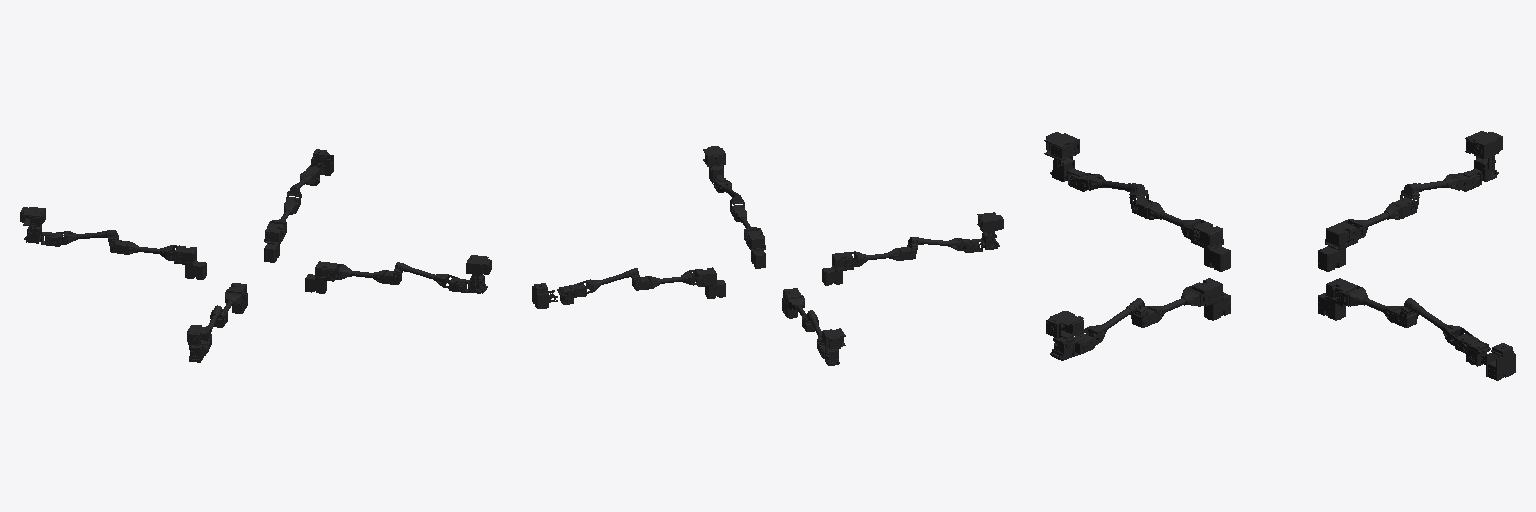
--- Render facts (derived) ---
Views: 3 orthographic renders of the robot side by side, from view 1: azimuth 30°, elevation 25°; view 2: azimuth 150°, elevation 25°; view 3: azimuth 270°, elevation 25°.
Model LIMBERO with 37 links and 36 joints (24 revolute, 4 continuous, 8 fixed), rooted at base_link, posed all joints at 0.
Visible links, largest first — view 1: RF_femur, LH_femur, LH_tibia, RF_tibia; view 2: LF_femur, RH_femur, RH_tibia, LF_tibia; view 3: RF_femur, LF_femur, LF_driving_Link, LH_femur, LF_tibia, RH_femur, LH_driving_Link, RF_tibia, LH_tibia, RF_driving_Link, RH_tibia, RH_driving_Link (+4 smaller).
Boxes of the visible links, bbox=[...] form: RF_femur: bbox=[328, 264, 401, 284]; LH_femur: bbox=[110, 240, 178, 261]; LH_tibia: bbox=[47, 230, 118, 249]; RF_tibia: bbox=[392, 262, 461, 291]; LF_femur: bbox=[632, 270, 703, 290]; RH_femur: bbox=[849, 247, 915, 267]; RH_tibia: bbox=[907, 237, 977, 256]; LF_tibia: bbox=[574, 268, 641, 296]; RF_femur: bbox=[1132, 286, 1211, 327]; LF_femur: bbox=[1337, 285, 1416, 327]; LF_driving_Link: bbox=[1481, 343, 1515, 380]; LH_femur: bbox=[1344, 197, 1416, 240]; LF_tibia: bbox=[1399, 298, 1475, 351]; RH_femur: bbox=[1132, 197, 1204, 240]; LH_driving_Link: bbox=[1465, 131, 1502, 168]; RF_tibia: bbox=[1075, 298, 1149, 351]; LH_tibia: bbox=[1400, 173, 1477, 209]; RF_driving_Link: bbox=[1046, 311, 1083, 346]; RH_tibia: bbox=[1071, 173, 1148, 209]; RH_driving_Link: bbox=[1044, 132, 1079, 168].
Bounding box of the posed robot: 1.08 × 1.07 × 0.16 m (x, y, z).
32 mesh visuals loaded from 14 distinct referenced files (8 binary STL); not drawn: 5 (reference not matched to a file when rendering).

The robot description file, URDF, robot "LIMBERO":
<?xml version="1.0" ?>
<!-- =================================================================================== -->
<!-- |    This document was autogenerated by xacro from LIMBERO_UPDATE.xacro           | -->
<!-- |    EDITING THIS FILE BY HAND IS NOT RECOMMENDED                                 | -->
<!-- =================================================================================== -->
<robot name="LIMBERO">
  <gazebo>
    <!-- ros_control plugin -->
    <plugin filename="libgazebo_ros2_control.so" name="gazebo_ros2_control">
      <parameters>[local-path]/lbr_ws/install/lbr_description/share/lbr_description/config/lbr_controller_with_grieel.yaml</parameters>
    </plugin>
  </gazebo>
  <link name="base_link">
    <inertial>
      <origin rpy="0 0 0" xyz="0 0 -0.0030083"/>
      <mass value="3.1152"/>
      <inertia ixx="0.0036482" ixy="7.8081E-07" ixz="1.7521E-06" iyy="0.0062179" iyz="-1.4424E-06" izz="0.0034682"/>
    </inertial>
    <visual>
      <origin rpy="0 0 0" xyz="0 0 0"/>
      <geometry>
        <mesh filename="meshes/base.STL" scale="1.0 1.0 1.0"/>
      </geometry>
      <material name="">
        <color rgba="0.2 0.2 0.2 1"/>
      </material>
    </visual>
    <collision>
      <origin rpy="0 0 0" xyz="0 0 0"/>
      <geometry>
        <mesh filename="meshes/base.STL" scale="1.0 1.0 1.0"/>
      </geometry>
    </collision>
  </link>
  <gazebo reference="base_link">
    <material>Gazebo/Black</material>
    <visual>
      <material>
        <ambient>0.2 0.2 0.2 1</ambient>
        <diffuse>0.2 0.2 0.2 1</diffuse>
        <specular>0.01 0.01 0.01 1</specular>
        <emissive>0.01 0.01 0.01 1</emissive>
      </material>
    </visual>
  </gazebo>
  <joint name="LF_joint" type="fixed">
    <origin rpy="0 0 0.7853981633974483" xyz="0.14142135623730953 0.1414213562373095 0"/>
    <parent link="base_link"/>
    <child link="LF_limb_root"/>
  </joint>
  <link name="LF_limb_root">
    <inertial>
      <origin rpy="0 0 0" xyz="-0.015029 -7.7571E-11 -0.047318"/>
      <mass value="0.08459"/>
      <inertia ixx="2.1548E-05" ixy="-4.775E-14" ixz="-1.6188E-07" iyy="3.834E-05" iyz="-8.2973E-14" izz="3.1728E-05"/>
    </inertial>
    <visual>
      <origin rpy="0 0 0" xyz="0 0 0"/>
      <geometry>
        <mesh filename="meshes/limb_root.STL"/>
      </geometry>
      <material name="">
        <color rgba="0.2 0.2 0.2 1"/>
      </material>
    </visual>
    <collision>
      <origin rpy="0 0 0" xyz="0 0 0"/>
      <geometry>
        <mesh filename="meshes/limb_root.STL"/>
      </geometry>
    </collision>
  </link>
  <link name="LF_coxa">
    <inertial>
      <origin rpy="0 0 0" xyz="0.015938 0.00063302 -0.0015013"/>
      <mass value="0.09109"/>
      <inertia ixx="2.352E-05" ixy="-1.6188E-07" ixz="4.775E-14" iyy="3.3634E-05" iyz="8.2973E-14" izz="4.2122E-05"/>
    </inertial>
    <visual>
      <origin rpy="0 0 0" xyz="0 0 0"/>
      <geometry>
        <mesh filename="meshes/coxa.STL"/>
      </geometry>
      <material name="">
        <color rgba="0.2 0.2 0.2 1"/>
      </material>
    </visual>
    <collision>
      <origin rpy="0 0 0" xyz="0 0 0"/>
      <geometry>
        <mesh filename="meshes/coxa.STL"/>
      </geometry>
    </collision>
  </link>
  <joint name="LF_B2C" type="revolute">
    <origin rpy="0 0 0" xyz="0 0 0"/>
    <parent link="LF_limb_root"/>
    <child link="LF_coxa"/>
    <axis xyz="0 0 1"/>
    <limit effort="5" lower="-3.14" upper="3.14" velocity="5"/>
    <dynamics damping="0.1" friction="0.4"/>
  </joint>
  <link name="LF_femur">
    <inertial>
      <origin rpy="0 0 0" xyz="0.10083 0.00014739 -3.217E-08"/>
      <mass value="0.12821"/>
      <inertia ixx="3.7005E-05" ixy="-1.9987E-08" ixz="-3.8346E-12" iyy="2.9934E-05" iyz="2.5988E-11" izz="4.8164E-05"/>
    </inertial>
    <visual>
      <origin rpy="0 0 0" xyz="0 0 0"/>
      <geometry>
        <mesh filename="meshes/femur.STL"/>
      </geometry>
      <material name="">
        <color rgba="0.2 0.2 0.2 1"/>
      </material>
    </visual>
    <collision>
      <origin rpy="0 0 0" xyz="0 0 0"/>
      <geometry>
        <mesh filename="meshes/femur.STL"/>
      </geometry>
    </collision>
  </link>
  <joint name="LF_C2F" type="revolute">
    <origin rpy="0 0 0" xyz="0.031 0 0"/>
    <parent link="LF_coxa"/>
    <child link="LF_femur"/>
    <axis xyz="0 1 0"/>
    <limit effort="5" lower="-3.14" upper="3.14" velocity="5"/>
    <dynamics damping="0.1" friction="0.4"/>
  </joint>
  <link name="LF_tibia">
    <inertial>
      <origin rpy="0 0 0" xyz="0.10298 1.1638E-07 0.019231"/>
      <mass value="0.061841"/>
      <inertia ixx="1.5486E-05" ixy="4.7072E-09" ixz="2.5637E-06" iyy="2.1826E-05" iyz="2.414E-08" izz="2.8843E-05"/>
    </inertial>
    <visual>
      <origin rpy="0 0 0" xyz="0 0 0"/>
      <geometry>
        <mesh filename="meshes/tibia.STL"/>
      </geometry>
      <material name="">
        <color rgba="0.2 0.2 0.2 1"/>
      </material>
    </visual>
    <collision>
      <origin rpy="0 0 0" xyz="0 0 0"/>
      <geometry>
        <mesh filename="meshes/tibia.STL"/>
      </geometry>
    </collision>
  </link>
  <joint name="LF_F2T" type="revolute">
    <origin rpy="0 0 0" xyz="0.2 0 0"/>
    <parent link="LF_femur"/>
    <child link="LF_tibia"/>
    <axis xyz="0 1 0"/>
    <limit effort="5" lower="-3.14" upper="3.14" velocity="5"/>
    <dynamics damping="0.1" friction="0.4"/>
  </joint>
  <link name="LF_limb_end">
    <inertial>
      <origin rpy="0 0 0" xyz="-0.011645 0.00042918 -9.53E-12"/>
      <mass value="0.081999"/>
      <inertia ixx="1.3061E-05" ixy="-3.7211E-08" ixz="3.1094E-14" iyy="1.9634E-05" iyz="-3.9438E-17" izz="2.2308E-05"/>
    </inertial>
    <visual>
      <origin rpy="0 0 0" xyz="0 0 0"/>
      <geometry>
        <mesh filename="meshes/limb_end.STL"/>
      </geometry>
      <material name="">
        <color rgba="0.2 0.2 0.2 1"/>
      </material>
    </visual>
    <collision>
      <origin rpy="0 0 0" xyz="0 0 0"/>
      <geometry>
        <mesh filename="meshes/limb_end.STL"/>
      </geometry>
    </collision>
  </link>
  <joint name="LF_T2E" type="revolute">
    <origin rpy="0 0 0" xyz="0.2 0 0"/>
    <parent link="LF_tibia"/>
    <child link="LF_limb_end"/>
    <axis xyz="0 1 0"/>
    <limit effort="5" lower="-3.14" upper="3.14" velocity="5"/>
    <dynamics damping="0.1" friction="0.4"/>
  </joint>
  <joint name="LH_joint" type="fixed">
    <origin rpy="0 0 2.356194490192345" xyz="-0.1414213562373095 0.14142135623730953 0"/>
    <parent link="base_link"/>
    <child link="LH_limb_root"/>
  </joint>
  <link name="LH_limb_root">
    <inertial>
      <origin rpy="0 0 0" xyz="-0.015029 -7.7571E-11 -0.047318"/>
      <mass value="0.08459"/>
      <inertia ixx="2.1548E-05" ixy="-4.775E-14" ixz="-1.6188E-07" iyy="3.834E-05" iyz="-8.2973E-14" izz="3.1728E-05"/>
    </inertial>
    <visual>
      <origin rpy="0 0 0" xyz="0 0 0"/>
      <geometry>
        <mesh filename="meshes/limb_root.STL"/>
      </geometry>
      <material name="">
        <color rgba="0.2 0.2 0.2 1"/>
      </material>
    </visual>
    <collision>
      <origin rpy="0 0 0" xyz="0 0 0"/>
      <geometry>
        <mesh filename="meshes/limb_root.STL"/>
      </geometry>
    </collision>
  </link>
  <link name="LH_coxa">
    <inertial>
      <origin rpy="0 0 0" xyz="0.015938 0.00063302 -0.0015013"/>
      <mass value="0.09109"/>
      <inertia ixx="2.352E-05" ixy="-1.6188E-07" ixz="4.775E-14" iyy="3.3634E-05" iyz="8.2973E-14" izz="4.2122E-05"/>
    </inertial>
    <visual>
      <origin rpy="0 0 0" xyz="0 0 0"/>
      <geometry>
        <mesh filename="meshes/coxa.STL"/>
      </geometry>
      <material name="">
        <color rgba="0.2 0.2 0.2 1"/>
      </material>
    </visual>
    <collision>
      <origin rpy="0 0 0" xyz="0 0 0"/>
      <geometry>
        <mesh filename="meshes/coxa.STL"/>
      </geometry>
    </collision>
  </link>
  <joint name="LH_B2C" type="revolute">
    <origin rpy="0 0 0" xyz="0 0 0"/>
    <parent link="LH_limb_root"/>
    <child link="LH_coxa"/>
    <axis xyz="0 0 1"/>
    <limit effort="5" lower="-3.14" upper="3.14" velocity="5"/>
    <dynamics damping="0.1" friction="0.4"/>
  </joint>
  <link name="LH_femur">
    <inertial>
      <origin rpy="0 0 0" xyz="0.10083 0.00014739 -3.217E-08"/>
      <mass value="0.12821"/>
      <inertia ixx="3.7005E-05" ixy="-1.9987E-08" ixz="-3.8346E-12" iyy="2.9934E-05" iyz="2.5988E-11" izz="4.8164E-05"/>
    </inertial>
    <visual>
      <origin rpy="0 0 0" xyz="0 0 0"/>
      <geometry>
        <mesh filename="meshes/femur.STL"/>
      </geometry>
      <material name="">
        <color rgba="0.2 0.2 0.2 1"/>
      </material>
    </visual>
    <collision>
      <origin rpy="0 0 0" xyz="0 0 0"/>
      <geometry>
        <mesh filename="meshes/femur.STL"/>
      </geometry>
    </collision>
  </link>
  <joint name="LH_C2F" type="revolute">
    <origin rpy="0 0 0" xyz="0.031 0 0"/>
    <parent link="LH_coxa"/>
    <child link="LH_femur"/>
    <axis xyz="0 1 0"/>
    <limit effort="5" lower="-3.14" upper="3.14" velocity="5"/>
    <dynamics damping="0.1" friction="0.4"/>
  </joint>
  <link name="LH_tibia">
    <inertial>
      <origin rpy="0 0 0" xyz="0.10298 1.1638E-07 0.019231"/>
      <mass value="0.061841"/>
      <inertia ixx="1.5486E-05" ixy="4.7072E-09" ixz="2.5637E-06" iyy="2.1826E-05" iyz="2.414E-08" izz="2.8843E-05"/>
    </inertial>
    <visual>
      <origin rpy="0 0 0" xyz="0 0 0"/>
      <geometry>
        <mesh filename="meshes/tibia.STL"/>
      </geometry>
      <material name="">
        <color rgba="0.2 0.2 0.2 1"/>
      </material>
    </visual>
    <collision>
      <origin rpy="0 0 0" xyz="0 0 0"/>
      <geometry>
        <mesh filename="meshes/tibia.STL"/>
      </geometry>
    </collision>
  </link>
  <joint name="LH_F2T" type="revolute">
    <origin rpy="0 0 0" xyz="0.2 0 0"/>
    <parent link="LH_femur"/>
    <child link="LH_tibia"/>
    <axis xyz="0 1 0"/>
    <limit effort="5" lower="-3.14" upper="3.14" velocity="5"/>
    <dynamics damping="0.1" friction="0.4"/>
  </joint>
  <link name="LH_limb_end">
    <inertial>
      <origin rpy="0 0 0" xyz="-0.011645 0.00042918 -9.53E-12"/>
      <mass value="0.081999"/>
      <inertia ixx="1.3061E-05" ixy="-3.7211E-08" ixz="3.1094E-14" iyy="1.9634E-05" iyz="-3.9438E-17" izz="2.2308E-05"/>
    </inertial>
    <visual>
      <origin rpy="0 0 0" xyz="0 0 0"/>
      <geometry>
        <mesh filename="meshes/limb_end.STL"/>
      </geometry>
      <material name="">
        <color rgba="0.2 0.2 0.2 1"/>
      </material>
    </visual>
    <collision>
      <origin rpy="0 0 0" xyz="0 0 0"/>
      <geometry>
        <mesh filename="meshes/limb_end.STL"/>
      </geometry>
    </collision>
  </link>
  <joint name="LH_T2E" type="revolute">
    <origin rpy="0 0 0" xyz="0.2 0 0"/>
    <parent link="LH_tibia"/>
    <child link="LH_limb_end"/>
    <axis xyz="0 1 0"/>
    <limit effort="5" lower="-3.14" upper="3.14" velocity="5"/>
    <dynamics damping="0.1" friction="0.4"/>
  </joint>
  <joint name="RH_joint" type="fixed">
    <origin rpy="0 0 3.9269908169872414" xyz="-0.14142135623730953 -0.1414213562373095 0"/>
    <parent link="base_link"/>
    <child link="RH_limb_root"/>
  </joint>
  <link name="RH_limb_root">
    <inertial>
      <origin rpy="0 0 0" xyz="-0.015029 -7.7571E-11 -0.047318"/>
      <mass value="0.08459"/>
      <inertia ixx="2.1548E-05" ixy="-4.775E-14" ixz="-1.6188E-07" iyy="3.834E-05" iyz="-8.2973E-14" izz="3.1728E-05"/>
    </inertial>
    <visual>
      <origin rpy="0 0 0" xyz="0 0 0"/>
      <geometry>
        <mesh filename="meshes/limb_root.STL"/>
      </geometry>
      <material name="">
        <color rgba="0.2 0.2 0.2 1"/>
      </material>
    </visual>
    <collision>
      <origin rpy="0 0 0" xyz="0 0 0"/>
      <geometry>
        <mesh filename="meshes/limb_root.STL"/>
      </geometry>
    </collision>
  </link>
  <link name="RH_coxa">
    <inertial>
      <origin rpy="0 0 0" xyz="0.015938 0.00063302 -0.0015013"/>
      <mass value="0.09109"/>
      <inertia ixx="2.352E-05" ixy="-1.6188E-07" ixz="4.775E-14" iyy="3.3634E-05" iyz="8.2973E-14" izz="4.2122E-05"/>
    </inertial>
    <visual>
      <origin rpy="0 0 0" xyz="0 0 0"/>
      <geometry>
        <mesh filename="meshes/coxa.STL"/>
      </geometry>
      <material name="">
        <color rgba="0.2 0.2 0.2 1"/>
      </material>
    </visual>
    <collision>
      <origin rpy="0 0 0" xyz="0 0 0"/>
      <geometry>
        <mesh filename="meshes/coxa.STL"/>
      </geometry>
    </collision>
  </link>
  <joint name="RH_B2C" type="revolute">
    <origin rpy="0 0 0" xyz="0 0 0"/>
    <parent link="RH_limb_root"/>
    <child link="RH_coxa"/>
    <axis xyz="0 0 1"/>
    <limit effort="5" lower="-3.14" upper="3.14" velocity="5"/>
    <dynamics damping="0.1" friction="0.4"/>
  </joint>
  <link name="RH_femur">
    <inertial>
      <origin rpy="0 0 0" xyz="0.10083 0.00014739 -3.217E-08"/>
      <mass value="0.12821"/>
      <inertia ixx="3.7005E-05" ixy="-1.9987E-08" ixz="-3.8346E-12" iyy="2.9934E-05" iyz="2.5988E-11" izz="4.8164E-05"/>
    </inertial>
    <visual>
      <origin rpy="0 0 0" xyz="0 0 0"/>
      <geometry>
        <mesh filename="meshes/femur.STL"/>
      </geometry>
      <material name="">
        <color rgba="0.2 0.2 0.2 1"/>
      </material>
    </visual>
    <collision>
      <origin rpy="0 0 0" xyz="0 0 0"/>
      <geometry>
        <mesh filename="meshes/femur.STL"/>
      </geometry>
    </collision>
  </link>
  <joint name="RH_C2F" type="revolute">
    <origin rpy="0 0 0" xyz="0.031 0 0"/>
    <parent link="RH_coxa"/>
    <child link="RH_femur"/>
    <axis xyz="0 1 0"/>
    <limit effort="5" lower="-3.14" upper="3.14" velocity="5"/>
    <dynamics damping="0.1" friction="0.4"/>
  </joint>
  <link name="RH_tibia">
    <inertial>
      <origin rpy="0 0 0" xyz="0.10298 1.1638E-07 0.019231"/>
      <mass value="0.061841"/>
      <inertia ixx="1.5486E-05" ixy="4.7072E-09" ixz="2.5637E-06" iyy="2.1826E-05" iyz="2.414E-08" izz="2.8843E-05"/>
    </inertial>
    <visual>
      <origin rpy="0 0 0" xyz="0 0 0"/>
      <geometry>
        <mesh filename="meshes/tibia.STL"/>
      </geometry>
      <material name="">
        <color rgba="0.2 0.2 0.2 1"/>
      </material>
    </visual>
    <collision>
      <origin rpy="0 0 0" xyz="0 0 0"/>
      <geometry>
        <mesh filename="meshes/tibia.STL"/>
      </geometry>
    </collision>
  </link>
  <joint name="RH_F2T" type="revolute">
    <origin rpy="0 0 0" xyz="0.2 0 0"/>
    <parent link="RH_femur"/>
    <child link="RH_tibia"/>
    <axis xyz="0 1 0"/>
    <limit effort="5" lower="-3.14" upper="3.14" velocity="5"/>
    <dynamics damping="0.1" friction="0.4"/>
  </joint>
  <link name="RH_limb_end">
    <inertial>
      <origin rpy="0 0 0" xyz="-0.011645 0.00042918 -9.53E-12"/>
      <mass value="0.081999"/>
      <inertia ixx="1.3061E-05" ixy="-3.7211E-08" ixz="3.1094E-14" iyy="1.9634E-05" iyz="-3.9438E-17" izz="2.2308E-05"/>
    </inertial>
    <visual>
      <origin rpy="0 0 0" xyz="0 0 0"/>
      <geometry>
        <mesh filename="meshes/limb_end.STL"/>
      </geometry>
      <material name="">
        <color rgba="0.2 0.2 0.2 1"/>
      </material>
    </visual>
    <collision>
      <origin rpy="0 0 0" xyz="0 0 0"/>
      <geometry>
        <mesh filename="meshes/limb_end.STL"/>
      </geometry>
    </collision>
  </link>
  <joint name="RH_T2E" type="revolute">
    <origin rpy="0 0 0" xyz="0.2 0 0"/>
    <parent link="RH_tibia"/>
    <child link="RH_limb_end"/>
    <axis xyz="0 1 0"/>
    <limit effort="5" lower="-3.14" upper="3.14" velocity="5"/>
    <dynamics damping="0.1" friction="0.4"/>
  </joint>
  <joint name="RF_joint" type="fixed">
    <origin rpy="0 0 5.497787143782138" xyz="0.14142135623730948 -0.14142135623730953 0"/>
    <parent link="base_link"/>
    <child link="RF_limb_root"/>
  </joint>
  <link name="RF_limb_root">
    <inertial>
      <origin rpy="0 0 0" xyz="-0.015029 -7.7571E-11 -0.047318"/>
      <mass value="0.08459"/>
      <inertia ixx="2.1548E-05" ixy="-4.775E-14" ixz="-1.6188E-07" iyy="3.834E-05" iyz="-8.2973E-14" izz="3.1728E-05"/>
    </inertial>
    <visual>
      <origin rpy="0 0 0" xyz="0 0 0"/>
      <geometry>
        <mesh filename="meshes/limb_root.STL"/>
      </geometry>
      <material name="">
        <color rgba="0.2 0.2 0.2 1"/>
      </material>
    </visual>
    <collision>
      <origin rpy="0 0 0" xyz="0 0 0"/>
      <geometry>
        <mesh filename="meshes/limb_root.STL"/>
      </geometry>
    </collision>
  </link>
  <link name="RF_coxa">
    <inertial>
      <origin rpy="0 0 0" xyz="0.015938 0.00063302 -0.0015013"/>
      <mass value="0.09109"/>
      <inertia ixx="2.352E-05" ixy="-1.6188E-07" ixz="4.775E-14" iyy="3.3634E-05" iyz="8.2973E-14" izz="4.2122E-05"/>
    </inertial>
    <visual>
      <origin rpy="0 0 0" xyz="0 0 0"/>
      <geometry>
        <mesh filename="meshes/coxa.STL"/>
      </geometry>
      <material name="">
        <color rgba="0.2 0.2 0.2 1"/>
      </material>
    </visual>
    <collision>
      <origin rpy="0 0 0" xyz="0 0 0"/>
      <geometry>
        <mesh filename="meshes/coxa.STL"/>
      </geometry>
    </collision>
  </link>
  <joint name="RF_B2C" type="revolute">
    <origin rpy="0 0 0" xyz="0 0 0"/>
    <parent link="RF_limb_root"/>
    <child link="RF_coxa"/>
    <axis xyz="0 0 1"/>
    <limit effort="5" lower="-3.14" upper="3.14" velocity="5"/>
    <dynamics damping="0.1" friction="0.4"/>
  </joint>
  <link name="RF_femur">
    <inertial>
      <origin rpy="0 0 0" xyz="0.10083 0.00014739 -3.217E-08"/>
      <mass value="0.12821"/>
      <inertia ixx="3.7005E-05" ixy="-1.9987E-08" ixz="-3.8346E-12" iyy="2.9934E-05" iyz="2.5988E-11" izz="4.8164E-05"/>
    </inertial>
    <visual>
      <origin rpy="0 0 0" xyz="0 0 0"/>
      <geometry>
        <mesh filename="meshes/femur.STL"/>
      </geometry>
      <material name="">
        <color rgba="0.2 0.2 0.2 1"/>
      </material>
    </visual>
    <collision>
      <origin rpy="0 0 0" xyz="0 0 0"/>
      <geometry>
        <mesh filename="meshes/femur.STL"/>
      </geometry>
    </collision>
  </link>
  <joint name="RF_C2F" type="revolute">
    <origin rpy="0 0 0" xyz="0.031 0 0"/>
    <parent link="RF_coxa"/>
    <child link="RF_femur"/>
    <axis xyz="0 1 0"/>
    <limit effort="5" lower="-3.14" upper="3.14" velocity="5"/>
    <dynamics damping="0.1" friction="0.4"/>
  </joint>
  <link name="RF_tibia">
    <inertial>
      <origin rpy="0 0 0" xyz="0.10298 1.1638E-07 0.019231"/>
      <mass value="0.061841"/>
      <inertia ixx="1.5486E-05" ixy="4.7072E-09" ixz="2.5637E-06" iyy="2.1826E-05" iyz="2.414E-08" izz="2.8843E-05"/>
    </inertial>
    <visual>
      <origin rpy="0 0 0" xyz="0 0 0"/>
      <geometry>
        <mesh filename="meshes/tibia.STL"/>
      </geometry>
      <material name="">
        <color rgba="0.2 0.2 0.2 1"/>
      </material>
    </visual>
    <collision>
      <origin rpy="0 0 0" xyz="0 0 0"/>
      <geometry>
        <mesh filename="meshes/tibia.STL"/>
      </geometry>
    </collision>
  </link>
  <joint name="RF_F2T" type="revolute">
    <origin rpy="0 0 0" xyz="0.2 0 0"/>
    <parent link="RF_femur"/>
    <child link="RF_tibia"/>
    <axis xyz="0 1 0"/>
    <limit effort="5" lower="-3.14" upper="3.14" velocity="5"/>
    <dynamics damping="0.1" friction="0.4"/>
  </joint>
  <link name="RF_limb_end">
    <inertial>
      <origin rpy="0 0 0" xyz="-0.011645 0.00042918 -9.53E-12"/>
      <mass value="0.081999"/>
      <inertia ixx="1.3061E-05" ixy="-3.7211E-08" ixz="3.1094E-14" iyy="1.9634E-05" iyz="-3.9438E-17" izz="2.2308E-05"/>
    </inertial>
    <visual>
      <origin rpy="0 0 0" xyz="0 0 0"/>
      <geometry>
        <mesh filename="meshes/limb_end.STL"/>
      </geometry>
      <material name="">
        <color rgba="0.2 0.2 0.2 1"/>
      </material>
    </visual>
    <collision>
      <origin rpy="0 0 0" xyz="0 0 0"/>
      <geometry>
        <mesh filename="meshes/limb_end.STL"/>
      </geometry>
    </collision>
  </link>
  <joint name="RF_T2E" type="revolute">
    <origin rpy="0 0 0" xyz="0.2 0 0"/>
    <parent link="RF_tibia"/>
    <child link="RF_limb_end"/>
    <axis xyz="0 1 0"/>
    <limit effort="5" lower="-3.14" upper="3.14" velocity="5"/>
    <dynamics damping="0.1" friction="0.4"/>
  </joint>
  <joint name="LF_E2grieel" type="fixed">
    <origin rpy="0 0 0" xyz="0 0 0"/>
    <parent link="LF_limb_end"/>
    <child link="LF_wristH_Link"/>
    <!-- <axis
        xyz="0 1 0" />
      <limit
        lower="0"
        upper="0"
        effort="5"
        velocity="0" /> -->
  </joint>
  <link name="LF_wristH_Link">
    <inertial>
      <origin rpy="0 0 0" xyz="-0.00522566844956051 -1.34546419111017E-16 -2.50808033407652E-17"/>
      <mass value="0.00988435774287047"/>
      <inertia ixx="2.66612744764484E-06" ixy="-1.34713298418369E-20" ixz="3.60089715947716E-21" iyy="4.57142030143529E-06" iyz="4.76175575235816E-19" izz="2.9211242466353E-06"/>
    </inertial>
    <visual>
      <origin rpy="0 0 0" xyz="0 0 0"/>
      <geometry>
        <mesh filename="meshes/Grieel_wheel_mode/wristH_Link.STL"/>
      </geometry>
      <material name="">
        <color rgba="0.2 0.2 0.2 1"/>
      </material>
    </visual>
    <collision>
      <origin rpy="0 0 0" xyz="0 0 0"/>
      <geometry>
        <mesh filename="meshes/Grieel_wheel_mode/wristH_Link.STL"/>
      </geometry>
    </collision>
  </link>
  <link name="LF_wristV_Link">
    <inertial>
      <origin rpy="0 0 0" xyz="0.0195120824576142 -0.000473380302575917 -0.0113217579335182"/>
      <mass value="0.102059813857681"/>
      <inertia ixx="2.51506057023328E-05" ixy="5.87568310882065E-07" ixz="5.02138918676071E-10" iyy="2.47069145197251E-05" iyz="-1.31422853272996E-09" izz="1.79824315026287E-05"/>
    </inertial>
    <visual>
      <origin rpy="-3.14159265358 0 0" xyz="-0.014255 0 0"/>
      <geometry>
        <mesh filename="meshes/Grieel_wheel_mode/wristV_Link.STL"/>
      </geometry>
      <material name="">
        <color rgba="0.2 0.2 0.2 1"/>
      </material>
    </visual>
    <collision>
      <origin rpy="0 0 0" xyz="-0.014255 0 0"/>
      <geometry>
        <mesh filename="meshes/Grieel_wheel_mode/wristV_Link.STL"/>
      </geometry>
    </collision>
  </link>
  <joint name="LF_wristH" type="revolute">
    <origin rpy="0 0 0" xyz="0.014255 0 0"/>
    <parent link="LF_wristH_Link"/>
    <child link="LF_wristV_Link"/>
    <axis xyz="1 0 0"/>
    <limit effort="5" lower="-3.14159265358" upper="3.14159265358" velocity="5"/>
    <dynamics damping="0.1" friction="0.4"/>
  </joint>
  <link name="LF_driving_Link">
    <inertial>
      <origin rpy="0 0 0" xyz="0.0448909989381638 -0.00431415254067207 5.44808063318511E-05"/>
      <mass value="0.132659951309175"/>
      <inertia ixx="4.32511275712107E-05" ixy="-4.1427317823442E-09" ixz="7.08867361092382E-09" iyy="3.4691959624158E-05" iyz="-1.0616454627913E-08" izz="3.76031003493131E-05"/>
    </inertial>
    <visual>
      <origin rpy="3.14159265358 -1.5708 0" xyz="0.024002 0 -0.03325 "/>
      <geometry>
        <mesh filename="meshes/Grieel_wheel_mode/driving_Link.STL"/>
      </geometry>
      <material name="">
        <color rgba="0.2 0.2 0.2 1"/>
      </material>
    </visual>
    <collision>
      <origin rpy="0 0 0" xyz="-0.03325 0 0.024002"/>
      <geometry>
        <mesh filename="meshes/Grieel_wheel_mode/driving_Link.STL"/>
      </geometry>
    </collision>
  </link>
  <joint name="LF_wristV" type="revolute">
    <origin rpy="0 0 0" xyz="0.018995 0 0.024002"/>
    <parent link="LF_wristV_Link"/>
    <child link="LF_driving_Link"/>
    <axis xyz="0 1 0"/>
    <limit effort="5" lower="-2.35619449019" upper="1.5708" velocity="5"/>
    <dynamics damping="0.1" friction="0.4"/>
  </joint>
  <link name="LF_wheel_Link">
    <inertial>
      <origin rpy="0 0 0" xyz="0.00222516909085785 0.00371161518941796 0.0864468548098098"/>
      <mass value="0.415840945785028"/>
      <inertia ixx="8.46005758272478E-05" ixy="5.92848495177423E-08" ixz="-1.25700028998783E-06" iyy="6.34434076414387E-05" iyz="-5.56154912625676E-07" izz="9.63386112584046E-05"/>
    </inertial>
    <visual>
      <origin rpy="0 -1.5708 3.14159265358" xyz=" 0.010898 0 -0.079017"/>
      <geometry>
        <mesh filename="meshes/Grieel_wheel_mode/wheel_Link.STL"/>
      </geometry>
      <material name="">
        <color rgba="0.2 0.2 0.2 1"/>
      </material>
    </visual>
    <collision name="LF_wheel_Link_collision">
      <origin rpy="0 0 0" xyz="-0.079017 0 0.010898"/>
      <geometry>
        <mesh filename="meshes/Grieel_wheel_mode/wheel_Link.STL"/>
      </geometry>
    </collision>
    <!-- <collision name="${prefix}_wheel_Link_collision">
      <origin
        xyz="0 -0.118 0"
        rpy="${pi/2} 0 0" />
      <geometry>
        <cylinder length="0.04" radius="0.078"/>
      </geometry>
    </collision> -->
  </link>
  <joint name="LF_driving" type="continuous">
    <origin rpy="0 0 0" xyz="0.013104 0 0.045762"/>
    <parent link="LF_driving_Link"/>
    <child link="LF_wheel_Link"/>
    <axis xyz="-1 0 0"/>
    <dynamics damping="0.1" friction="0.4"/>
  </joint>
  <!-- Gazebo plugin for contact sensor, collision name like that because of parsing errors in the urdf  -->
  <gazebo reference="LF_wheel_Link">
    <sensor name="LF_gripper_bumper_sensor" type="contact">
      <always_on>true</always_on>
      <update_rate>100</update_rate>
      <contact>
        <collision>LF_wheel_Link_collision_collision</collision>
      </contact>
      <plugin filename="libgazebo_ros_bumper.so" name="LF_gripper_bumper">
        <ros>
          <namespace>LF</namespace>
        </ros>
        <frame_name>LF_wheel_link</frame_name>
      </plugin>
    </sensor>
  </gazebo>
  <joint name="LH_E2grieel" type="fixed">
    <origin rpy="-1.5708 0 0" xyz="0 0 0"/>
    <parent link="LH_limb_end"/>
    <child link="LH_wristH_Link"/>
    <!-- <axis
        xyz="0 1 0" />
      <limit
        lower="0"
        upper="0"
        effort="0"
        velocity="0" /> -->
  </joint>
  <link name="LH_wristH_Link">
    <inertial>
      <origin rpy="0 0 0" xyz="0.011821 8.7424E-07 4.3619E-14"/>
      <mass value="0.00824"/>
      <inertia ixx="1.7943E-06" ixy="-3.8552E-19" ixz="7.4101E-19" iyy="2.9379E-06" iyz="-2.3646E-09" izz="1.6633E-06"/>
    </inertial>
    <visual>
      <origin rpy="0 0 0" xyz="0 0 0"/>
      <geometry>
        <mesh filename="meshes/Grieel_gripper_mode/wristH_Link.STL"/>
      </geometry>
      <material name="">
        <color rgba="0.2 0.2 0.2 1"/>
      </material>
    </visual>
    <collision>
      <origin rpy="0 0 0" xyz="0 0 0"/>
      <geometry>
        <mesh filename="meshes/Grieel_gripper_mode/wristH_Link.STL"/>
      </geometry>
    </collision>
  </link>
  <link name="LH_wristV_Link">
    <inertial>
      <origin rpy="0 0 0" xyz="0.0214166502499745 0.000471129500725836 0.0113219457469963"/>
      <mass value="0.102059813857681"/>
      <inertia ixx="2.51506057023328E-05" ixy="-5.87568310882068E-07" ixz="-5.02138918625881E-10" iyy="2.47069145197251E-05" iyz="-1.3142285327366E-09" izz="1.79824315026287E-05"/>
    </inertial>
    <visual>
      <origin rpy="0 0 0" xyz="0 0 0"/>
      <geometry>
        <mesh filename="meshes/Grieel_gripper_mode/wristV_Link.STL"/>
      </geometry>
      <material name="">
        <color rgba="0.2 0.2 0.2 1"/>
      </material>
    </visual>
    <collision>
      <origin rpy="0 0 0" xyz="0 0 0"/>
      <geometry>
        <mesh filename="meshes/Grieel_gripper_mode/wristV_Link.STL"/>
      </geometry>
    </collision>
  </link>
  <joint name="LH_wristH" type="revolute">
    <origin rpy="1.5708 0 0" xyz="0.025851 0 0"/>
    <parent link="LH_wristH_Link"/>
    <child link="LH_wristV_Link"/>
    <axis xyz="1 0 0"/>
    <limit effort="5" lower="-3.14159265358" upper="3.14159265358" velocity="5"/>
    <dynamics damping="0.1" friction="0.4"/>
  </joint>
  <link name="LH_driving_Link">
    <inertial>
      <origin rpy="0 0 0" xyz="5.44808065291863E-05 0.00431293338596027 0.0448909989385787"/>
      <mass value="0.132659951311712"/>
      <inertia ixx="3.76031003493078E-05" ixy="1.06164546307058E-08" ixz="7.08867360655478E-09" iyy="3.46919596241853E-05" iyz="4.14273177876885E-09" izz="4.32511275712205E-05"/>
    </inertial>
    <visual>
      <origin rpy="0 0 0" xyz="0 0 0"/>
      <geometry>
        <mesh filename="meshes/Grieel_gripper_mode/driving_Link.STL"/>
      </geometry>
      <material name="">
        <color rgba="0.2 0.2 0.2 1"/>
      </material>
    </visual>
    <collision>
      <origin rpy="0 0 0" xyz="0 0 0"/>
      <geometry>
        <mesh filename="meshes/Grieel_gripper_mode/driving_Link.STL"/>
      </geometry>
    </collision>
  </link>
  <joint name="LH_wristV" type="revolute">
    <origin rpy="0 0 0" xyz="0.0209 0 0.024008"/>
    <parent link="LH_wristV_Link"/>
    <child link="LH_driving_Link"/>
    <axis xyz="0 1 0"/>
    <limit effort="5" lower="-0.78539816339" upper="1.57079632679" velocity="5"/>
    <dynamics damping="0.1" friction="0.4"/>
  </joint>
  <link name="LH_gripper_Link">
    <inertial>
      <origin rpy="0 0 0" xyz="0.0710296935233056 0.0037135355484196 -0.00222742536711223"/>
      <mass value="0.415840817883391"/>
      <inertia ixx="0.000103581229161757" ixy="-5.56154912627397E-07" ixz="1.25700028997968E-06" iyy="5.98220979474832E-05" iyz="-5.92848495250994E-08" izz="8.09792661333327E-05"/>
    </inertial>
    <visual>
      <origin rpy="0 0 0" xyz="0 0 0"/>
      <geometry>
        <mesh filename="meshes/Grieel_gripper_mode/gripper_Link.STL"/>
      </geometry>
      <material name="">
        <color rgba="0.2 0.2 0.2 1"/>
      </material>
    </visual>
    <collision name="LH_gripper_Link_collision">
      <origin rpy="0 0 0" xyz="0 0 0"/>
      <geometry>
        <mesh filename="meshes/Grieel_gripper_mode/gripper_Link.STL"/>
      </geometry>
    </collision>
  </link>
  <joint name="LH_driving" type="continuous">
    <origin rpy="0 0 0" xyz="0.0131 0 0.04576"/>
    <parent link="LH_driving_Link"/>
    <child link="LH_gripper_Link"/>
    <axis xyz="-1 0 0"/>
    <dynamics damping="0.1" friction="0.4"/>
  </joint>
  <!-- Gazebo plugin for contact sensor, collision name like that because of parsing errors in the urdf  -->
  <gazebo reference="LH_gripper_Link">
    <sensor name="LH_gripper_bumper_sensor" type="contact">
      <always_on>true</always_on>
      <update_rate>100</update_rate>
      <contact>
        <collision>LH_gripper_Link_collision_collision</collision>
      </contact>
      <plugin filename="libgazebo_ros_bumper.so" name="LH_gripper_bumper">
        <ros>
          <namespace>LH</namespace>
        </ros>
        <frame_name>LH_gripper_link</frame_name>
      </plugin>
    </sensor>
  </gazebo>
  <joint name="RH_E2grieel" type="fixed">
    <origin rpy="-1.5708 0 0" xyz="0 0 0"/>
    <parent link="RH_limb_end"/>
    <child link="RH_wristH_Link"/>
    <!-- <axis
        xyz="0 1 0" />
      <limit
        lower="0"
        upper="0"
        effort="0"
        velocity="0" /> -->
  </joint>
  <link name="RH_wristH_Link">
    <inertial>
      <origin rpy="0 0 0" xyz="0.011821 8.7424E-07 4.3619E-14"/>
      <mass value="0.00824"/>
      <inertia ixx="1.7943E-06" ixy="-3.8552E-19" ixz="7.4101E-19" iyy="2.9379E-06" iyz="-2.3646E-09" izz="1.6633E-06"/>
    </inertial>
    <visual>
      <origin rpy="0 0 0" xyz="0 0 0"/>
      <geometry>
        <mesh filename="meshes/Grieel_gripper_mode/wristH_Link.STL"/>
      </geometry>
      <material name="">
        <color rgba="0.2 0.2 0.2 1"/>
      </material>
    </visual>
    <collision>
      <origin rpy="0 0 0" xyz="0 0 0"/>
      <geometry>
        <mesh filename="meshes/Grieel_gripper_mode/wristH_Link.STL"/>
      </geometry>
    </collision>
  </link>
  <link name="RH_wristV_Link">
    <inertial>
      <origin rpy="0 0 0" xyz="0.0214166502499745 0.000471129500725836 0.0113219457469963"/>
      <mass value="0.102059813857681"/>
      <inertia ixx="2.51506057023328E-05" ixy="-5.87568310882068E-07" ixz="-5.02138918625881E-10" iyy="2.47069145197251E-05" iyz="-1.3142285327366E-09" izz="1.79824315026287E-05"/>
    </inertial>
    <visual>
      <origin rpy="0 0 0" xyz="0 0 0"/>
      <geometry>
        <mesh filename="meshes/Grieel_gripper_mode/wristV_Link.STL"/>
      </geometry>
      <material name="">
        <color rgba="0.2 0.2 0.2 1"/>
      </material>
    </visual>
    <collision>
      <origin rpy="0 0 0" xyz="0 0 0"/>
      <geometry>
        <mesh filename="meshes/Grieel_gripper_mode/wristV_Link.STL"/>
      </geometry>
    </collision>
  </link>
  <joint name="RH_wristH" type="revolute">
    <origin rpy="1.5708 0 0" xyz="0.025851 0 0"/>
    <parent link="RH_wristH_Link"/>
    <child link="RH_wristV_Link"/>
    <axis xyz="1 0 0"/>
    <limit effort="5" lower="-3.14159265358" upper="3.14159265358" velocity="5"/>
    <dynamics damping="0.1" friction="0.4"/>
  </joint>
  <link name="RH_driving_Link">
    <inertial>
      <origin rpy="0 0 0" xyz="5.44808065291863E-05 0.00431293338596027 0.0448909989385787"/>
      <mass value="0.132659951311712"/>
      <inertia ixx="3.76031003493078E-05" ixy="1.06164546307058E-08" ixz="7.08867360655478E-09" iyy="3.46919596241853E-05" iyz="4.14273177876885E-09" izz="4.32511275712205E-05"/>
    </inertial>
    <visual>
      <origin rpy="0 0 0" xyz="0 0 0"/>
      <geometry>
        <mesh filename="meshes/Grieel_gripper_mode/driving_Link.STL"/>
      </geometry>
      <material name="">
        <color rgba="0.2 0.2 0.2 1"/>
      </material>
    </visual>
    <collision>
      <origin rpy="0 0 0" xyz="0 0 0"/>
      <geometry>
        <mesh filename="meshes/Grieel_gripper_mode/driving_Link.STL"/>
      </geometry>
    </collision>
  </link>
  <joint name="RH_wristV" type="revolute">
    <origin rpy="0 0 0" xyz="0.0209 0 0.024008"/>
    <parent link="RH_wristV_Link"/>
    <child link="RH_driving_Link"/>
    <axis xyz="0 1 0"/>
    <limit effort="5" lower="-0.78539816339" upper="1.57079632679" velocity="5"/>
    <dynamics damping="0.1" friction="0.4"/>
  </joint>
  <link name="RH_gripper_Link">
    <inertial>
      <origin rpy="0 0 0" xyz="0.0710296935233056 0.0037135355484196 -0.00222742536711223"/>
      <mass value="0.415840817883391"/>
      <inertia ixx="0.000103581229161757" ixy="-5.56154912627397E-07" ixz="1.25700028997968E-06" iyy="5.98220979474832E-05" iyz="-5.92848495250994E-08" izz="8.09792661333327E-05"/>
    </inertial>
    <visual>
      <origin rpy="0 0 0" xyz="0 0 0"/>
      <geometry>
        <mesh filename="meshes/Grieel_gripper_mode/gripper_Link.STL"/>
      </geometry>
      <material name="">
        <color rgba="0.2 0.2 0.2 1"/>
      </material>
    </visual>
    <collision name="RH_gripper_Link_collision">
      <origin rpy="0 0 0" xyz="0 0 0"/>
      <geometry>
        <mesh filename="meshes/Grieel_gripper_mode/gripper_Link.STL"/>
      </geometry>
    </collision>
  </link>
  <joint name="RH_driving" type="continuous">
    <origin rpy="0 0 0" xyz="0.0131 0 0.04576"/>
    <parent link="RH_driving_Link"/>
    <child link="RH_gripper_Link"/>
    <axis xyz="-1 0 0"/>
    <dynamics damping="0.1" friction="0.4"/>
  </joint>
  <!-- Gazebo plugin for contact sensor, collision name like that because of parsing errors in the urdf  -->
  <gazebo reference="RH_gripper_Link">
    <sensor name="RH_gripper_bumper_sensor" type="contact">
      <always_on>true</always_on>
      <update_rate>100</update_rate>
      <contact>
        <collision>RH_gripper_Link_collision_collision</collision>
      </contact>
      <plugin filename="libgazebo_ros_bumper.so" name="RH_gripper_bumper">
        <ros>
          <namespace>RH</namespace>
        </ros>
        <frame_name>RH_gripper_link</frame_name>
      </plugin>
    </sensor>
  </gazebo>
  <joint name="RF_E2grieel" type="fixed">
    <origin rpy="-1.5708 0 0" xyz="0 0 0"/>
    <parent link="RF_limb_end"/>
    <child link="RF_wristH_Link"/>
    <!-- <axis
        xyz="0 1 0" />
      <limit
        lower="0"
        upper="0"
        effort="0"
        velocity="0" /> -->
  </joint>
  <link name="RF_wristH_Link">
    <inertial>
      <origin rpy="0 0 0" xyz="0.011821 8.7424E-07 4.3619E-14"/>
      <mass value="0.00824"/>
      <inertia ixx="1.7943E-06" ixy="-3.8552E-19" ixz="7.4101E-19" iyy="2.9379E-06" iyz="-2.3646E-09" izz="1.6633E-06"/>
    </inertial>
    <visual>
      <origin rpy="0 0 0" xyz="0 0 0"/>
      <geometry>
        <mesh filename="meshes/Grieel_gripper_mode/wristH_Link.STL"/>
      </geometry>
      <material name="">
        <color rgba="0.2 0.2 0.2 1"/>
      </material>
    </visual>
    <collision>
      <origin rpy="0 0 0" xyz="0 0 0"/>
      <geometry>
        <mesh filename="meshes/Grieel_gripper_mode/wristH_Link.STL"/>
      </geometry>
    </collision>
  </link>
  <link name="RF_wristV_Link">
    <inertial>
      <origin rpy="0 0 0" xyz="0.0214166502499745 0.000471129500725836 0.0113219457469963"/>
      <mass value="0.102059813857681"/>
      <inertia ixx="2.51506057023328E-05" ixy="-5.87568310882068E-07" ixz="-5.02138918625881E-10" iyy="2.47069145197251E-05" iyz="-1.3142285327366E-09" izz="1.79824315026287E-05"/>
    </inertial>
    <visual>
      <origin rpy="0 0 0" xyz="0 0 0"/>
      <geometry>
        <mesh filename="meshes/Grieel_gripper_mode/wristV_Link.STL"/>
      </geometry>
      <material name="">
        <color rgba="0.2 0.2 0.2 1"/>
      </material>
    </visual>
    <collision>
      <origin rpy="0 0 0" xyz="0 0 0"/>
      <geometry>
        <mesh filename="meshes/Grieel_gripper_mode/wristV_Link.STL"/>
      </geometry>
    </collision>
  </link>
  <joint name="RF_wristH" type="revolute">
    <origin rpy="1.5708 0 0" xyz="0.025851 0 0"/>
    <parent link="RF_wristH_Link"/>
    <child link="RF_wristV_Link"/>
    <axis xyz="1 0 0"/>
    <limit effort="5" lower="-3.14159265358" upper="3.14159265358" velocity="5"/>
    <dynamics damping="0.1" friction="0.4"/>
  </joint>
  <link name="RF_driving_Link">
    <inertial>
      <origin rpy="0 0 0" xyz="5.44808065291863E-05 0.00431293338596027 0.0448909989385787"/>
      <mass value="0.132659951311712"/>
      <inertia ixx="3.76031003493078E-05" ixy="1.06164546307058E-08" ixz="7.08867360655478E-09" iyy="3.46919596241853E-05" iyz="4.14273177876885E-09" izz="4.32511275712205E-05"/>
    </inertial>
    <visual>
      <origin rpy="0 0 0" xyz="0 0 0"/>
      <geometry>
        <mesh filename="meshes/Grieel_gripper_mode/driving_Link.STL"/>
      </geometry>
      <material name="">
        <color rgba="0.2 0.2 0.2 1"/>
      </material>
    </visual>
    <collision>
      <origin rpy="0 0 0" xyz="0 0 0"/>
      <geometry>
        <mesh filename="meshes/Grieel_gripper_mode/driving_Link.STL"/>
      </geometry>
    </collision>
  </link>
  <joint name="RF_wristV" type="revolute">
    <origin rpy="0 0 0" xyz="0.0209 0 0.024008"/>
    <parent link="RF_wristV_Link"/>
    <child link="RF_driving_Link"/>
    <axis xyz="0 1 0"/>
    <limit effort="5" lower="-0.78539816339" upper="1.57079632679" velocity="5"/>
    <dynamics damping="0.1" friction="0.4"/>
  </joint>
  <link name="RF_gripper_Link">
    <inertial>
      <origin rpy="0 0 0" xyz="0.0710296935233056 0.0037135355484196 -0.00222742536711223"/>
      <mass value="0.415840817883391"/>
      <inertia ixx="0.000103581229161757" ixy="-5.56154912627397E-07" ixz="1.25700028997968E-06" iyy="5.98220979474832E-05" iyz="-5.92848495250994E-08" izz="8.09792661333327E-05"/>
    </inertial>
    <visual>
      <origin rpy="0 0 0" xyz="0 0 0"/>
      <geometry>
        <mesh filename="meshes/Grieel_gripper_mode/gripper_Link.STL"/>
      </geometry>
      <material name="">
        <color rgba="0.2 0.2 0.2 1"/>
      </material>
    </visual>
    <collision name="RF_gripper_Link_collision">
      <origin rpy="0 0 0" xyz="0 0 0"/>
      <geometry>
        <mesh filename="meshes/Grieel_gripper_mode/gripper_Link.STL"/>
      </geometry>
    </collision>
  </link>
  <joint name="RF_driving" type="continuous">
    <origin rpy="0 0 0" xyz="0.0131 0 0.04576"/>
    <parent link="RF_driving_Link"/>
    <child link="RF_gripper_Link"/>
    <axis xyz="-1 0 0"/>
    <dynamics damping="0.1" friction="0.4"/>
  </joint>
  <!-- Gazebo plugin for contact sensor, collision name like that because of parsing errors in the urdf  -->
  <gazebo reference="RF_gripper_Link">
    <sensor name="RF_gripper_bumper_sensor" type="contact">
      <always_on>true</always_on>
      <update_rate>100</update_rate>
      <contact>
        <collision>RF_gripper_Link_collision_collision</collision>
      </contact>
      <plugin filename="libgazebo_ros_bumper.so" name="RF_gripper_bumper">
        <ros>
          <namespace>RF</namespace>
        </ros>
        <frame_name>RF_gripper_link</frame_name>
      </plugin>
    </sensor>
  </gazebo>
  <ros2_control name="LF_ros2_control" type="system">
    <hardware>
      <plugin>gazebo_ros2_control/GazeboSystem</plugin>
    </hardware>
    <joint name="LF_B2C">
      <command_interface name="position">
        <param name="min">-10</param>
        <param name="max">10</param>
      </command_interface>
      <command_interface name="velocity">
        <param name="min">-0.5</param>
        <param name="max">0.5</param>
      </command_interface>
      <command_interface name="effort">
        <param name="min">-10</param>
        <param name="max">10</param>
      </command_interface>
      <state_interface name="position">
        <!-- Set initial joint position -->
        <param name="initial_value"> 0.0 </param>
      </state_interface>
      <state_interface name="velocity"/>
    </joint>
    <joint name="LF_C2F">
      <command_interface name="position">
        <param name="min">-10</param>
        <param name="max">10</param>
      </command_interface>
      <command_interface name="velocity">
        <param name="min">-0.5</param>
        <param name="max">0.5</param>
      </command_interface>
      <command_interface name="effort">
        <param name="min">-10</param>
        <param name="max">10</param>
      </command_interface>
      <state_interface name="position">
        <param name="initial_value"> 0.0 </param>
      </state_interface>
      <state_interface name="velocity"/>
    </joint>
    <joint name="LF_F2T">
      <command_interface name="position">
        <param name="min">-10</param>
        <param name="max">10</param>
      </command_interface>
      <command_interface name="velocity">
        <param name="min">-0.5</param>
        <param name="max">0.5</param>
      </command_interface>
      <command_interface name="effort">
        <param name="min">-10</param>
        <param name="max">10</param>
      </command_interface>
      <state_interface name="position">
        <param name="initial_value"> 1.5707963267948966 </param>
      </state_interface>
      <state_interface name="velocity"/>
    </joint>
    <joint name="LF_T2E">
      <command_interface name="position">
        <param name="min">-10</param>
        <param name="max">10</param>
      </command_interface>
      <command_interface name="velocity">
        <param name="min">-0.5</param>
        <param name="max">0.5</param>
      </command_interface>
      <command_interface name="effort">
        <param name="min">-10</param>
        <param name="max">10</param>
      </command_interface>
      <state_interface name="position">
        <param name="initial_value"> 0.0 </param>
      </state_interface>
      <state_interface name="velocity"/>
    </joint>
    <joint name="LF_wristH">
      <command_interface name="position">
        <param name="min">-10</param>
        <param name="max">10</param>
      </command_interface>
      <command_interface name="velocity">
        <param name="min">-0.5</param>
        <param name="max">0.5</param>
      </command_interface>
      <command_interface name="effort">
        <param name="min">-10</param>
        <param name="max">10</param>
      </command_interface>
      <state_interface name="position">
        <param name="initial_value"> 0.0 </param>
      </state_interface>
      <state_interface name="velocity"/>
    </joint>
    <joint name="LF_wristV">
      <command_interface name="position">
        <param name="min">-10</param>
        <param name="max">10</param>
      </command_interface>
      <command_interface name="velocity">
        <param name="min">-0.5</param>
        <param name="max">0.5</param>
      </command_interface>
      <command_interface name="effort">
        <param name="min">-10</param>
        <param name="max">10</param>
      </command_interface>
      <state_interface name="position">
        <param name="initial_value"> 0.0 </param>
      </state_interface>
      <state_interface name="velocity"/>
    </joint>
    <joint name="LF_driving">
      <command_interface name="position">
        <param name="min">-10</param>
        <param name="max">10</param>
      </command_interface>
      <command_interface name="velocity">
        <param name="min">-0.5</param>
        <param name="max">0.5</param>
      </command_interface>
      <command_interface name="effort">
        <param name="min">-10</param>
        <param name="max">10</param>
      </command_interface>
      <state_interface name="position">
        <param name="initial_value"> 0.0 </param>
      </state_interface>
      <state_interface name="velocity"/>
    </joint>
  </ros2_control>
  <ros2_control name="LH_ros2_control" type="system">
    <hardware>
      <plugin>gazebo_ros2_control/GazeboSystem</plugin>
    </hardware>
    <joint name="LH_B2C">
      <command_interface name="position">
        <param name="min">-10</param>
        <param name="max">10</param>
      </command_interface>
      <command_interface name="velocity">
        <param name="min">-0.5</param>
        <param name="max">0.5</param>
      </command_interface>
      <command_interface name="effort">
        <param name="min">-10</param>
        <param name="max">10</param>
      </command_interface>
      <state_interface name="position">
        <!-- Set initial joint position -->
        <param name="initial_value"> 0.0 </param>
      </state_interface>
      <state_interface name="velocity"/>
    </joint>
    <joint name="LH_C2F">
      <command_interface name="position">
        <param name="min">-10</param>
        <param name="max">10</param>
      </command_interface>
      <command_interface name="velocity">
        <param name="min">-0.5</param>
        <param name="max">0.5</param>
      </command_interface>
      <command_interface name="effort">
        <param name="min">-10</param>
        <param name="max">10</param>
      </command_interface>
      <state_interface name="position">
        <param name="initial_value"> 0.0 </param>
      </state_interface>
      <state_interface name="velocity"/>
    </joint>
    <joint name="LH_F2T">
      <command_interface name="position">
        <param name="min">-10</param>
        <param name="max">10</param>
      </command_interface>
      <command_interface name="velocity">
        <param name="min">-0.5</param>
        <param name="max">0.5</param>
      </command_interface>
      <command_interface name="effort">
        <param name="min">-10</param>
        <param name="max">10</param>
      </command_interface>
      <state_interface name="position">
        <param name="initial_value"> 1.5707963267948966 </param>
      </state_interface>
      <state_interface name="velocity"/>
    </joint>
    <joint name="LH_T2E">
      <command_interface name="position">
        <param name="min">-10</param>
        <param name="max">10</param>
      </command_interface>
      <command_interface name="velocity">
        <param name="min">-0.5</param>
        <param name="max">0.5</param>
      </command_interface>
      <command_interface name="effort">
        <param name="min">-10</param>
        <param name="max">10</param>
      </command_interface>
      <state_interface name="position">
        <param name="initial_value"> 0.0 </param>
      </state_interface>
      <state_interface name="velocity"/>
    </joint>
    <joint name="LH_wristH">
      <command_interface name="position">
        <param name="min">-10</param>
        <param name="max">10</param>
      </command_interface>
      <command_interface name="velocity">
        <param name="min">-0.5</param>
        <param name="max">0.5</param>
      </command_interface>
      <command_interface name="effort">
        <param name="min">-10</param>
        <param name="max">10</param>
      </command_interface>
      <state_interface name="position">
        <param name="initial_value"> 0.0 </param>
      </state_interface>
      <state_interface name="velocity"/>
    </joint>
    <joint name="LH_wristV">
      <command_interface name="position">
        <param name="min">-10</param>
        <param name="max">10</param>
      </command_interface>
      <command_interface name="velocity">
        <param name="min">-0.5</param>
        <param name="max">0.5</param>
      </command_interface>
      <command_interface name="effort">
        <param name="min">-10</param>
        <param name="max">10</param>
      </command_interface>
      <state_interface name="position">
        <param name="initial_value"> 0.0 </param>
      </state_interface>
      <state_interface name="velocity"/>
    </joint>
    <joint name="LH_driving">
      <command_interface name="position">
        <param name="min">-10</param>
        <param name="max">10</param>
      </command_interface>
      <command_interface name="velocity">
        <param name="min">-0.5</param>
        <param name="max">0.5</param>
      </command_interface>
      <command_interface name="effort">
        <param name="min">-10</param>
        <param name="max">10</param>
      </command_interface>
      <state_interface name="position">
        <param name="initial_value"> 0.0 </param>
      </state_interface>
      <state_interface name="velocity"/>
    </joint>
  </ros2_control>
  <ros2_control name="RH_ros2_control" type="system">
    <hardware>
      <plugin>gazebo_ros2_control/GazeboSystem</plugin>
    </hardware>
    <joint name="RH_B2C">
      <command_interface name="position">
        <param name="min">-10</param>
        <param name="max">10</param>
      </command_interface>
      <command_interface name="velocity">
        <param name="min">-0.5</param>
        <param name="max">0.5</param>
      </command_interface>
      <command_interface name="effort">
        <param name="min">-10</param>
        <param name="max">10</param>
      </command_interface>
      <state_interface name="position">
        <!-- Set initial joint position -->
        <param name="initial_value"> 0.0 </param>
      </state_interface>
      <state_interface name="velocity"/>
    </joint>
    <joint name="RH_C2F">
      <command_interface name="position">
        <param name="min">-10</param>
        <param name="max">10</param>
      </command_interface>
      <command_interface name="velocity">
        <param name="min">-0.5</param>
        <param name="max">0.5</param>
      </command_interface>
      <command_interface name="effort">
        <param name="min">-10</param>
        <param name="max">10</param>
      </command_interface>
      <state_interface name="position">
        <param name="initial_value"> 0.0 </param>
      </state_interface>
      <state_interface name="velocity"/>
    </joint>
    <joint name="RH_F2T">
      <command_interface name="position">
        <param name="min">-10</param>
        <param name="max">10</param>
      </command_interface>
      <command_interface name="velocity">
        <param name="min">-0.5</param>
        <param name="max">0.5</param>
      </command_interface>
      <command_interface name="effort">
        <param name="min">-10</param>
        <param name="max">10</param>
      </command_interface>
      <state_interface name="position">
        <param name="initial_value"> 1.5707963267948966 </param>
      </state_interface>
      <state_interface name="velocity"/>
    </joint>
    <joint name="RH_T2E">
      <command_interface name="position">
        <param name="min">-10</param>
        <param name="max">10</param>
      </command_interface>
      <command_interface name="velocity">
        <param name="min">-0.5</param>
        <param name="max">0.5</param>
      </command_interface>
      <command_interface name="effort">
        <param name="min">-10</param>
        <param name="max">10</param>
      </command_interface>
      <state_interface name="position">
        <param name="initial_value"> 0.0 </param>
      </state_interface>
      <state_interface name="velocity"/>
    </joint>
    <joint name="RH_wristH">
      <command_interface name="position">
        <param name="min">-10</param>
        <param name="max">10</param>
      </command_interface>
      <command_interface name="velocity">
        <param name="min">-0.5</param>
        <param name="max">0.5</param>
      </command_interface>
      <command_interface name="effort">
        <param name="min">-10</param>
        <param name="max">10</param>
      </command_interface>
      <state_interface name="position">
        <param name="initial_value"> 0.0 </param>
      </state_interface>
      <state_interface name="velocity"/>
    </joint>
    <joint name="RH_wristV">
      <command_interface name="position">
        <param name="min">-10</param>
        <param name="max">10</param>
      </command_interface>
      <command_interface name="velocity">
        <param name="min">-0.5</param>
        <param name="max">0.5</param>
      </command_interface>
      <command_interface name="effort">
        <param name="min">-10</param>
        <param name="max">10</param>
      </command_interface>
      <state_interface name="position">
        <param name="initial_value"> 0.0 </param>
      </state_interface>
      <state_interface name="velocity"/>
    </joint>
    <joint name="RH_driving">
      <command_interface name="position">
        <param name="min">-10</param>
        <param name="max">10</param>
      </command_interface>
      <command_interface name="velocity">
        <param name="min">-0.5</param>
        <param name="max">0.5</param>
      </command_interface>
      <command_interface name="effort">
        <param name="min">-10</param>
        <param name="max">10</param>
      </command_interface>
      <state_interface name="position">
        <param name="initial_value"> 0.0 </param>
      </state_interface>
      <state_interface name="velocity"/>
    </joint>
  </ros2_control>
  <ros2_control name="RF_ros2_control" type="system">
    <hardware>
      <plugin>gazebo_ros2_control/GazeboSystem</plugin>
    </hardware>
    <joint name="RF_B2C">
      <command_interface name="position">
        <param name="min">-10</param>
        <param name="max">10</param>
      </command_interface>
      <command_interface name="velocity">
        <param name="min">-0.5</param>
        <param name="max">0.5</param>
      </command_interface>
      <command_interface name="effort">
        <param name="min">-10</param>
        <param name="max">10</param>
      </command_interface>
      <state_interface name="position">
        <!-- Set initial joint position -->
        <param name="initial_value"> 0.0 </param>
      </state_interface>
      <state_interface name="velocity"/>
    </joint>
    <joint name="RF_C2F">
      <command_interface name="position">
        <param name="min">-10</param>
        <param name="max">10</param>
      </command_interface>
      <command_interface name="velocity">
        <param name="min">-0.5</param>
        <param name="max">0.5</param>
      </command_interface>
      <command_interface name="effort">
        <param name="min">-10</param>
        <param name="max">10</param>
      </command_interface>
      <state_interface name="position">
        <param name="initial_value"> 0.0 </param>
      </state_interface>
      <state_interface name="velocity"/>
    </joint>
    <joint name="RF_F2T">
      <command_interface name="position">
        <param name="min">-10</param>
        <param name="max">10</param>
      </command_interface>
      <command_interface name="velocity">
        <param name="min">-0.5</param>
        <param name="max">0.5</param>
      </command_interface>
      <command_interface name="effort">
        <param name="min">-10</param>
        <param name="max">10</param>
      </command_interface>
      <state_interface name="position">
        <param name="initial_value"> 1.5707963267948966 </param>
      </state_interface>
      <state_interface name="velocity"/>
    </joint>
    <joint name="RF_T2E">
      <command_interface name="position">
        <param name="min">-10</param>
        <param name="max">10</param>
      </command_interface>
      <command_interface name="velocity">
        <param name="min">-0.5</param>
        <param name="max">0.5</param>
      </command_interface>
      <command_interface name="effort">
        <param name="min">-10</param>
        <param name="max">10</param>
      </command_interface>
      <state_interface name="position">
        <param name="initial_value"> 0.0 </param>
      </state_interface>
      <state_interface name="velocity"/>
    </joint>
    <joint name="RF_wristH">
      <command_interface name="position">
        <param name="min">-10</param>
        <param name="max">10</param>
      </command_interface>
      <command_interface name="velocity">
        <param name="min">-0.5</param>
        <param name="max">0.5</param>
      </command_interface>
      <command_interface name="effort">
        <param name="min">-10</param>
        <param name="max">10</param>
      </command_interface>
      <state_interface name="position">
        <param name="initial_value"> 0.0 </param>
      </state_interface>
      <state_interface name="velocity"/>
    </joint>
    <joint name="RF_wristV">
      <command_interface name="position">
        <param name="min">-10</param>
        <param name="max">10</param>
      </command_interface>
      <command_interface name="velocity">
        <param name="min">-0.5</param>
        <param name="max">0.5</param>
      </command_interface>
      <command_interface name="effort">
        <param name="min">-10</param>
        <param name="max">10</param>
      </command_interface>
      <state_interface name="position">
        <param name="initial_value"> 0.0 </param>
      </state_interface>
      <state_interface name="velocity"/>
    </joint>
    <joint name="RF_driving">
      <command_interface name="position">
        <param name="min">-10</param>
        <param name="max">10</param>
      </command_interface>
      <command_interface name="velocity">
        <param name="min">-0.5</param>
        <param name="max">0.5</param>
      </command_interface>
      <command_interface name="effort">
        <param name="min">-10</param>
        <param name="max">10</param>
      </command_interface>
      <state_interface name="position">
        <param name="initial_value"> 0.0 </param>
      </state_interface>
      <state_interface name="velocity"/>
    </joint>
  </ros2_control>
  <!-- Gazebo plugin for joint state publisher  -->
  <gazebo>
    <plugin filename="libgazebo_ros_joint_state_publisher.so" name="LF_joint_state">
      <ros>
        <namespace>LF</namespace>
        <remapping>~/out:=joint_states</remapping>
      </ros>
      <update_rate>30</update_rate>
      <!-- <joint_name>${prefix}_E2grieel</joint_name> -->
      <joint_name>LF_B2C</joint_name>
      <joint_name>LF_C2F</joint_name>
      <joint_name>LF_F2T</joint_name>
      <joint_name>LF_T2E</joint_name>
      <joint_name>LF_wristH</joint_name>
      <joint_name>LF_wristV</joint_name>
      <joint_name>LF_driving</joint_name>
    </plugin>
  </gazebo>
  <!-- Gazebo plugin for joint state publisher  -->
  <gazebo>
    <plugin filename="libgazebo_ros_joint_state_publisher.so" name="LH_joint_state">
      <ros>
        <namespace>LH</namespace>
        <remapping>~/out:=joint_states</remapping>
      </ros>
      <update_rate>30</update_rate>
      <!-- <joint_name>${prefix}_E2grieel</joint_name> -->
      <joint_name>LH_B2C</joint_name>
      <joint_name>LH_C2F</joint_name>
      <joint_name>LH_F2T</joint_name>
      <joint_name>LH_T2E</joint_name>
      <joint_name>LH_wristH</joint_name>
      <joint_name>LH_wristV</joint_name>
      <joint_name>LH_driving</joint_name>
    </plugin>
  </gazebo>
  <!-- Gazebo plugin for joint state publisher  -->
  <gazebo>
    <plugin filename="libgazebo_ros_joint_state_publisher.so" name="RH_joint_state">
      <ros>
        <namespace>RH</namespace>
        <remapping>~/out:=joint_states</remapping>
      </ros>
      <update_rate>30</update_rate>
      <!-- <joint_name>${prefix}_E2grieel</joint_name> -->
      <joint_name>RH_B2C</joint_name>
      <joint_name>RH_C2F</joint_name>
      <joint_name>RH_F2T</joint_name>
      <joint_name>RH_T2E</joint_name>
      <joint_name>RH_wristH</joint_name>
      <joint_name>RH_wristV</joint_name>
      <joint_name>RH_driving</joint_name>
    </plugin>
  </gazebo>
  <!-- Gazebo plugin for joint state publisher  -->
  <gazebo>
    <plugin filename="libgazebo_ros_joint_state_publisher.so" name="RF_joint_state">
      <ros>
        <namespace>RF</namespace>
        <remapping>~/out:=joint_states</remapping>
      </ros>
      <update_rate>30</update_rate>
      <!-- <joint_name>${prefix}_E2grieel</joint_name> -->
      <joint_name>RF_B2C</joint_name>
      <joint_name>RF_C2F</joint_name>
      <joint_name>RF_F2T</joint_name>
      <joint_name>RF_T2E</joint_name>
      <joint_name>RF_wristH</joint_name>
      <joint_name>RF_wristV</joint_name>
      <joint_name>RF_driving</joint_name>
    </plugin>
  </gazebo>
  <gazebo reference="LF_wheel_Link">
    <mu1>1.5</mu1>
    <mu2>2.5</mu2>
    <kp>1000000</kp>
    <kd>1.0</kd>
  </gazebo>
  <gazebo reference="LF_femur">
    <material>Gazebo/Black</material>
    <visual>
      <material>
        <ambient>0.2 0.2 0.2 1</ambient>
        <diffuse>0.2 0.2 0.2 1</diffuse>
        <specular>0.01 0.01 0.01 1</specular>
        <emissive>0.01 0.01 0.01 1</emissive>
      </material>
    </visual>
  </gazebo>
  <gazebo reference="LF_tibia">
    <material>Gazebo/Black</material>
    <visual>
      <material>
        <ambient>0.2 0.2 0.2 1</ambient>
        <diffuse>0.2 0.2 0.2 1</diffuse>
        <specular>0.01 0.01 0.01 1</specular>
        <emissive>0.01 0.01 0.01 1</emissive>
      </material>
    </visual>
  </gazebo>
  <gazebo reference="LF_limb_end">
    <material>Gazebo/Black</material>
    <visual>
      <material>
        <ambient>0.2 0.2 0.2 1</ambient>
        <diffuse>0.2 0.2 0.2 1</diffuse>
        <specular>0.01 0.01 0.01 1</specular>
        <emissive>0.01 0.01 0.01 1</emissive>
      </material>
    </visual>
  </gazebo>
  <gazebo reference="LF_limb_root">
    <material>Gazebo/Black</material>
    <visual>
      <material>
        <ambient>0.2 0.2 0.2 1</ambient>
        <diffuse>0.2 0.2 0.2 1</diffuse>
        <specular>0.01 0.01 0.01 1</specular>
        <emissive>0.01 0.01 0.01 1</emissive>
      </material>
    </visual>
  </gazebo>
  <gazebo reference="LF_coxa">
    <material>Gazebo/Black</material>
    <visual>
      <material>
        <ambient>0.2 0.2 0.2 1</ambient>
        <diffuse>0.2 0.2 0.2 1</diffuse>
        <specular>0.01 0.01 0.01 1</specular>
        <emissive>0.01 0.01 0.01 1</emissive>
      </material>
    </visual>
  </gazebo>
  <gazebo reference="LF_wristH_Link">
    <material>Gazebo/Black</material>
    <visual>
      <material>
        <ambient>0.2 0.2 0.2 1</ambient>
        <diffuse>0.2 0.2 0.2 1</diffuse>
        <specular>0.01 0.01 0.01 1</specular>
        <emissive>0.01 0.01 0.01 1</emissive>
      </material>
    </visual>
  </gazebo>
  <gazebo reference="LF_wristV_Link">
    <material>Gazebo/Black</material>
    <visual>
      <material>
        <ambient>0.2 0.2 0.2 1</ambient>
        <diffuse>0.2 0.2 0.2 1</diffuse>
        <specular>0.01 0.01 0.01 1</specular>
        <emissive>0.01 0.01 0.01 1</emissive>
      </material>
    </visual>
  </gazebo>
  <gazebo reference="LF_driving_Link">
    <material>Gazebo/Black</material>
    <visual>
      <material>
        <ambient>0.2 0.2 0.2 1</ambient>
        <diffuse>0.2 0.2 0.2 1</diffuse>
        <specular>0.01 0.01 0.01 1</specular>
        <emissive>0.01 0.01 0.01 1</emissive>
      </material>
    </visual>
  </gazebo>
  <gazebo reference="LF_gripper_Link">
    <material>Gazebo/Black</material>
    <visual>
      <material>
        <ambient>0.2 0.2 0.2 1</ambient>
        <diffuse>0.2 0.2 0.2 1</diffuse>
        <specular>0.01 0.01 0.01 1</specular>
        <emissive>0.01 0.01 0.01 1</emissive>
      </material>
    </visual>
  </gazebo>
  <gazebo reference="LF_wheel_Link">
    <material>Gazebo/Black</material>
    <visual>
      <material>
        <ambient>0.2 0.2 0.2 1</ambient>
        <diffuse>0.2 0.2 0.2 1</diffuse>
        <specular>0.01 0.01 0.01 1</specular>
        <emissive>0.01 0.01 0.01 1</emissive>
      </material>
    </visual>
  </gazebo>
  <gazebo reference="LH_wheel_Link">
    <mu1>1.5</mu1>
    <mu2>2.5</mu2>
    <kp>1000000</kp>
    <kd>1.0</kd>
  </gazebo>
  <gazebo reference="LH_femur">
    <material>Gazebo/Black</material>
    <visual>
      <material>
        <ambient>0.2 0.2 0.2 1</ambient>
        <diffuse>0.2 0.2 0.2 1</diffuse>
        <specular>0.01 0.01 0.01 1</specular>
        <emissive>0.01 0.01 0.01 1</emissive>
      </material>
    </visual>
  </gazebo>
  <gazebo reference="LH_tibia">
    <material>Gazebo/Black</material>
    <visual>
      <material>
        <ambient>0.2 0.2 0.2 1</ambient>
        <diffuse>0.2 0.2 0.2 1</diffuse>
        <specular>0.01 0.01 0.01 1</specular>
        <emissive>0.01 0.01 0.01 1</emissive>
      </material>
    </visual>
  </gazebo>
  <gazebo reference="LH_limb_end">
    <material>Gazebo/Black</material>
    <visual>
      <material>
        <ambient>0.2 0.2 0.2 1</ambient>
        <diffuse>0.2 0.2 0.2 1</diffuse>
        <specular>0.01 0.01 0.01 1</specular>
        <emissive>0.01 0.01 0.01 1</emissive>
      </material>
    </visual>
  </gazebo>
  <gazebo reference="LH_limb_root">
    <material>Gazebo/Black</material>
    <visual>
      <material>
        <ambient>0.2 0.2 0.2 1</ambient>
        <diffuse>0.2 0.2 0.2 1</diffuse>
        <specular>0.01 0.01 0.01 1</specular>
        <emissive>0.01 0.01 0.01 1</emissive>
      </material>
    </visual>
  </gazebo>
  <gazebo reference="LH_coxa">
    <material>Gazebo/Black</material>
    <visual>
      <material>
        <ambient>0.2 0.2 0.2 1</ambient>
        <diffuse>0.2 0.2 0.2 1</diffuse>
        <specular>0.01 0.01 0.01 1</specular>
        <emissive>0.01 0.01 0.01 1</emissive>
      </material>
    </visual>
  </gazebo>
  <gazebo reference="LH_wristH_Link">
    <material>Gazebo/Black</material>
    <visual>
      <material>
        <ambient>0.2 0.2 0.2 1</ambient>
        <diffuse>0.2 0.2 0.2 1</diffuse>
        <specular>0.01 0.01 0.01 1</specular>
        <emissive>0.01 0.01 0.01 1</emissive>
      </material>
    </visual>
  </gazebo>
  <gazebo reference="LH_wristV_Link">
    <material>Gazebo/Black</material>
    <visual>
      <material>
        <ambient>0.2 0.2 0.2 1</ambient>
        <diffuse>0.2 0.2 0.2 1</diffuse>
        <specular>0.01 0.01 0.01 1</specular>
        <emissive>0.01 0.01 0.01 1</emissive>
      </material>
    </visual>
  </gazebo>
  <gazebo reference="LH_driving_Link">
    <material>Gazebo/Black</material>
    <visual>
      <material>
        <ambient>0.2 0.2 0.2 1</ambient>
        <diffuse>0.2 0.2 0.2 1</diffuse>
        <specular>0.01 0.01 0.01 1</specular>
        <emissive>0.01 0.01 0.01 1</emissive>
      </material>
    </visual>
  </gazebo>
  <gazebo reference="LH_gripper_Link">
    <material>Gazebo/Black</material>
    <visual>
      <material>
        <ambient>0.2 0.2 0.2 1</ambient>
        <diffuse>0.2 0.2 0.2 1</diffuse>
        <specular>0.01 0.01 0.01 1</specular>
        <emissive>0.01 0.01 0.01 1</emissive>
      </material>
    </visual>
  </gazebo>
  <gazebo reference="LH_wheel_Link">
    <material>Gazebo/Black</material>
    <visual>
      <material>
        <ambient>0.2 0.2 0.2 1</ambient>
        <diffuse>0.2 0.2 0.2 1</diffuse>
        <specular>0.01 0.01 0.01 1</specular>
        <emissive>0.01 0.01 0.01 1</emissive>
      </material>
    </visual>
  </gazebo>
  <gazebo reference="RH_wheel_Link">
    <mu1>1.5</mu1>
    <mu2>2.5</mu2>
    <kp>1000000</kp>
    <kd>1.0</kd>
  </gazebo>
  <gazebo reference="RH_femur">
    <material>Gazebo/Black</material>
    <visual>
      <material>
        <ambient>0.2 0.2 0.2 1</ambient>
        <diffuse>0.2 0.2 0.2 1</diffuse>
        <specular>0.01 0.01 0.01 1</specular>
        <emissive>0.01 0.01 0.01 1</emissive>
      </material>
    </visual>
  </gazebo>
  <gazebo reference="RH_tibia">
    <material>Gazebo/Black</material>
    <visual>
      <material>
        <ambient>0.2 0.2 0.2 1</ambient>
        <diffuse>0.2 0.2 0.2 1</diffuse>
        <specular>0.01 0.01 0.01 1</specular>
        <emissive>0.01 0.01 0.01 1</emissive>
      </material>
    </visual>
  </gazebo>
  <gazebo reference="RH_limb_end">
    <material>Gazebo/Black</material>
    <visual>
      <material>
        <ambient>0.2 0.2 0.2 1</ambient>
        <diffuse>0.2 0.2 0.2 1</diffuse>
        <specular>0.01 0.01 0.01 1</specular>
        <emissive>0.01 0.01 0.01 1</emissive>
      </material>
    </visual>
  </gazebo>
  <gazebo reference="RH_limb_root">
    <material>Gazebo/Black</material>
    <visual>
      <material>
        <ambient>0.2 0.2 0.2 1</ambient>
        <diffuse>0.2 0.2 0.2 1</diffuse>
        <specular>0.01 0.01 0.01 1</specular>
        <emissive>0.01 0.01 0.01 1</emissive>
      </material>
    </visual>
  </gazebo>
  <gazebo reference="RH_coxa">
    <material>Gazebo/Black</material>
    <visual>
      <material>
        <ambient>0.2 0.2 0.2 1</ambient>
        <diffuse>0.2 0.2 0.2 1</diffuse>
        <specular>0.01 0.01 0.01 1</specular>
        <emissive>0.01 0.01 0.01 1</emissive>
      </material>
    </visual>
  </gazebo>
  <gazebo reference="RH_wristH_Link">
    <material>Gazebo/Black</material>
    <visual>
      <material>
        <ambient>0.2 0.2 0.2 1</ambient>
        <diffuse>0.2 0.2 0.2 1</diffuse>
        <specular>0.01 0.01 0.01 1</specular>
        <emissive>0.01 0.01 0.01 1</emissive>
      </material>
    </visual>
  </gazebo>
  <gazebo reference="RH_wristV_Link">
    <material>Gazebo/Black</material>
    <visual>
      <material>
        <ambient>0.2 0.2 0.2 1</ambient>
        <diffuse>0.2 0.2 0.2 1</diffuse>
        <specular>0.01 0.01 0.01 1</specular>
        <emissive>0.01 0.01 0.01 1</emissive>
      </material>
    </visual>
  </gazebo>
  <gazebo reference="RH_driving_Link">
    <material>Gazebo/Black</material>
    <visual>
      <material>
        <ambient>0.2 0.2 0.2 1</ambient>
        <diffuse>0.2 0.2 0.2 1</diffuse>
        <specular>0.01 0.01 0.01 1</specular>
        <emissive>0.01 0.01 0.01 1</emissive>
      </material>
    </visual>
  </gazebo>
  <gazebo reference="RH_gripper_Link">
    <material>Gazebo/Black</material>
    <visual>
      <material>
        <ambient>0.2 0.2 0.2 1</ambient>
        <diffuse>0.2 0.2 0.2 1</diffuse>
        <specular>0.01 0.01 0.01 1</specular>
        <emissive>0.01 0.01 0.01 1</emissive>
      </material>
    </visual>
  </gazebo>
  <gazebo reference="RH_wheel_Link">
    <material>Gazebo/Black</material>
    <visual>
      <material>
        <ambient>0.2 0.2 0.2 1</ambient>
        <diffuse>0.2 0.2 0.2 1</diffuse>
        <specular>0.01 0.01 0.01 1</specular>
        <emissive>0.01 0.01 0.01 1</emissive>
      </material>
    </visual>
  </gazebo>
  <gazebo reference="RF_wheel_Link">
    <mu1>1.5</mu1>
    <mu2>2.5</mu2>
    <kp>1000000</kp>
    <kd>1.0</kd>
  </gazebo>
  <gazebo reference="RF_femur">
    <material>Gazebo/Black</material>
    <visual>
      <material>
        <ambient>0.2 0.2 0.2 1</ambient>
        <diffuse>0.2 0.2 0.2 1</diffuse>
        <specular>0.01 0.01 0.01 1</specular>
        <emissive>0.01 0.01 0.01 1</emissive>
      </material>
    </visual>
  </gazebo>
  <gazebo reference="RF_tibia">
    <material>Gazebo/Black</material>
    <visual>
      <material>
        <ambient>0.2 0.2 0.2 1</ambient>
        <diffuse>0.2 0.2 0.2 1</diffuse>
        <specular>0.01 0.01 0.01 1</specular>
        <emissive>0.01 0.01 0.01 1</emissive>
      </material>
    </visual>
  </gazebo>
  <gazebo reference="RF_limb_end">
    <material>Gazebo/Black</material>
    <visual>
      <material>
        <ambient>0.2 0.2 0.2 1</ambient>
        <diffuse>0.2 0.2 0.2 1</diffuse>
        <specular>0.01 0.01 0.01 1</specular>
        <emissive>0.01 0.01 0.01 1</emissive>
      </material>
    </visual>
  </gazebo>
  <gazebo reference="RF_limb_root">
    <material>Gazebo/Black</material>
    <visual>
      <material>
        <ambient>0.2 0.2 0.2 1</ambient>
        <diffuse>0.2 0.2 0.2 1</diffuse>
        <specular>0.01 0.01 0.01 1</specular>
        <emissive>0.01 0.01 0.01 1</emissive>
      </material>
    </visual>
  </gazebo>
  <gazebo reference="RF_coxa">
    <material>Gazebo/Black</material>
    <visual>
      <material>
        <ambient>0.2 0.2 0.2 1</ambient>
        <diffuse>0.2 0.2 0.2 1</diffuse>
        <specular>0.01 0.01 0.01 1</specular>
        <emissive>0.01 0.01 0.01 1</emissive>
      </material>
    </visual>
  </gazebo>
  <gazebo reference="RF_wristH_Link">
    <material>Gazebo/Black</material>
    <visual>
      <material>
        <ambient>0.2 0.2 0.2 1</ambient>
        <diffuse>0.2 0.2 0.2 1</diffuse>
        <specular>0.01 0.01 0.01 1</specular>
        <emissive>0.01 0.01 0.01 1</emissive>
      </material>
    </visual>
  </gazebo>
  <gazebo reference="RF_wristV_Link">
    <material>Gazebo/Black</material>
    <visual>
      <material>
        <ambient>0.2 0.2 0.2 1</ambient>
        <diffuse>0.2 0.2 0.2 1</diffuse>
        <specular>0.01 0.01 0.01 1</specular>
        <emissive>0.01 0.01 0.01 1</emissive>
      </material>
    </visual>
  </gazebo>
  <gazebo reference="RF_driving_Link">
    <material>Gazebo/Black</material>
    <visual>
      <material>
        <ambient>0.2 0.2 0.2 1</ambient>
        <diffuse>0.2 0.2 0.2 1</diffuse>
        <specular>0.01 0.01 0.01 1</specular>
        <emissive>0.01 0.01 0.01 1</emissive>
      </material>
    </visual>
  </gazebo>
  <gazebo reference="RF_gripper_Link">
    <material>Gazebo/Black</material>
    <visual>
      <material>
        <ambient>0.2 0.2 0.2 1</ambient>
        <diffuse>0.2 0.2 0.2 1</diffuse>
        <specular>0.01 0.01 0.01 1</specular>
        <emissive>0.01 0.01 0.01 1</emissive>
      </material>
    </visual>
  </gazebo>
  <gazebo reference="RF_wheel_Link">
    <material>Gazebo/Black</material>
    <visual>
      <material>
        <ambient>0.2 0.2 0.2 1</ambient>
        <diffuse>0.2 0.2 0.2 1</diffuse>
        <specular>0.01 0.01 0.01 1</specular>
        <emissive>0.01 0.01 0.01 1</emissive>
      </material>
    </visual>
  </gazebo>
</robot>
